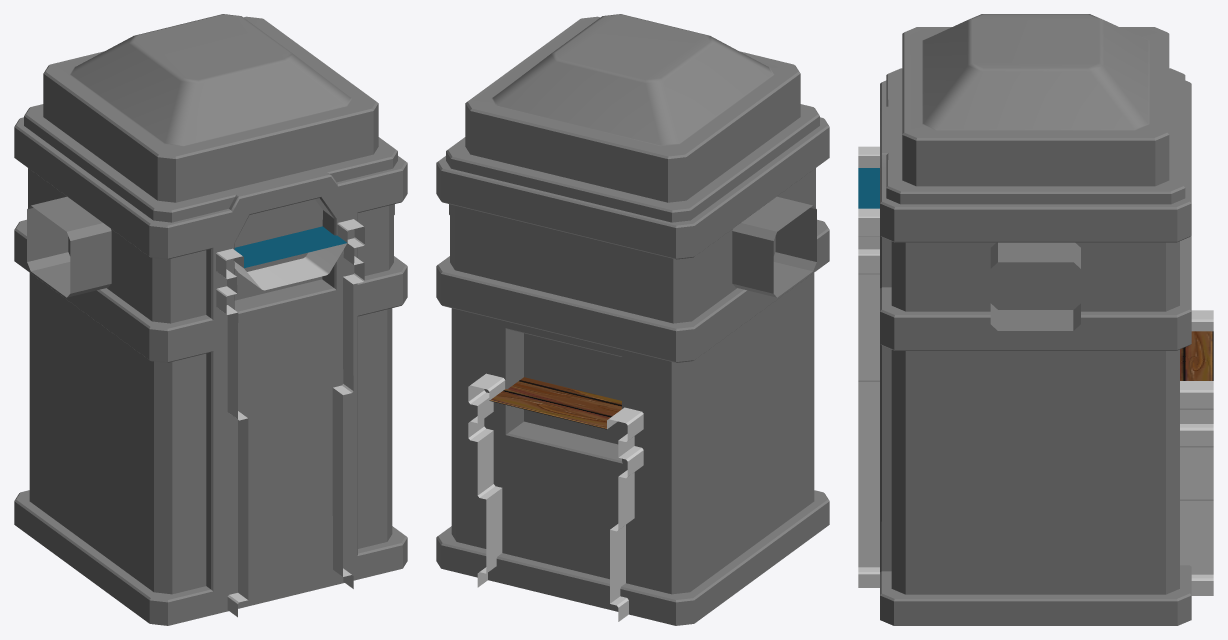
The model's file is Distiller_Middle.fbx.
3 views of the same model, side by side, from view 1: azimuth 30°, elevation 25°; view 2: azimuth 150°, elevation 25°; view 3: azimuth 270°, elevation 25° (orthographic). The views are drawn at different scales.
Parts seen in each view (by area): view 1: Distiller_Solid_To_Liquid_Output, Pipe_Connection, Liquid_Flat; view 2: Distiller_Solid_To_Liquid_Output, Treadmill_Connection; view 3: Distiller_Solid_To_Liquid_Output, Treadmill_Connection, Pipe_Connection, Liquid_Flat.
Part boxes in pixels (x1=…): Distiller_Solid_To_Liquid_Output: x1=14, y1=14, x2=407, y2=625; Pipe_Connection: x1=216, y1=219, x2=364, y2=617; Liquid_Flat: x1=234, y1=226, x2=346, y2=268; Distiller_Solid_To_Liquid_Output: x1=436, y1=14, x2=829, y2=625; Treadmill_Connection: x1=468, y1=373, x2=643, y2=621; Distiller_Solid_To_Liquid_Output: x1=880, y1=14, x2=1191, y2=625; Treadmill_Connection: x1=1180, y1=310, x2=1213, y2=595; Pipe_Connection: x1=858, y1=146, x2=879, y2=587; Liquid_Flat: x1=858, y1=168, x2=879, y2=208.
Size of the model in its own units: 1.1 by 1.62 by 0.999.
